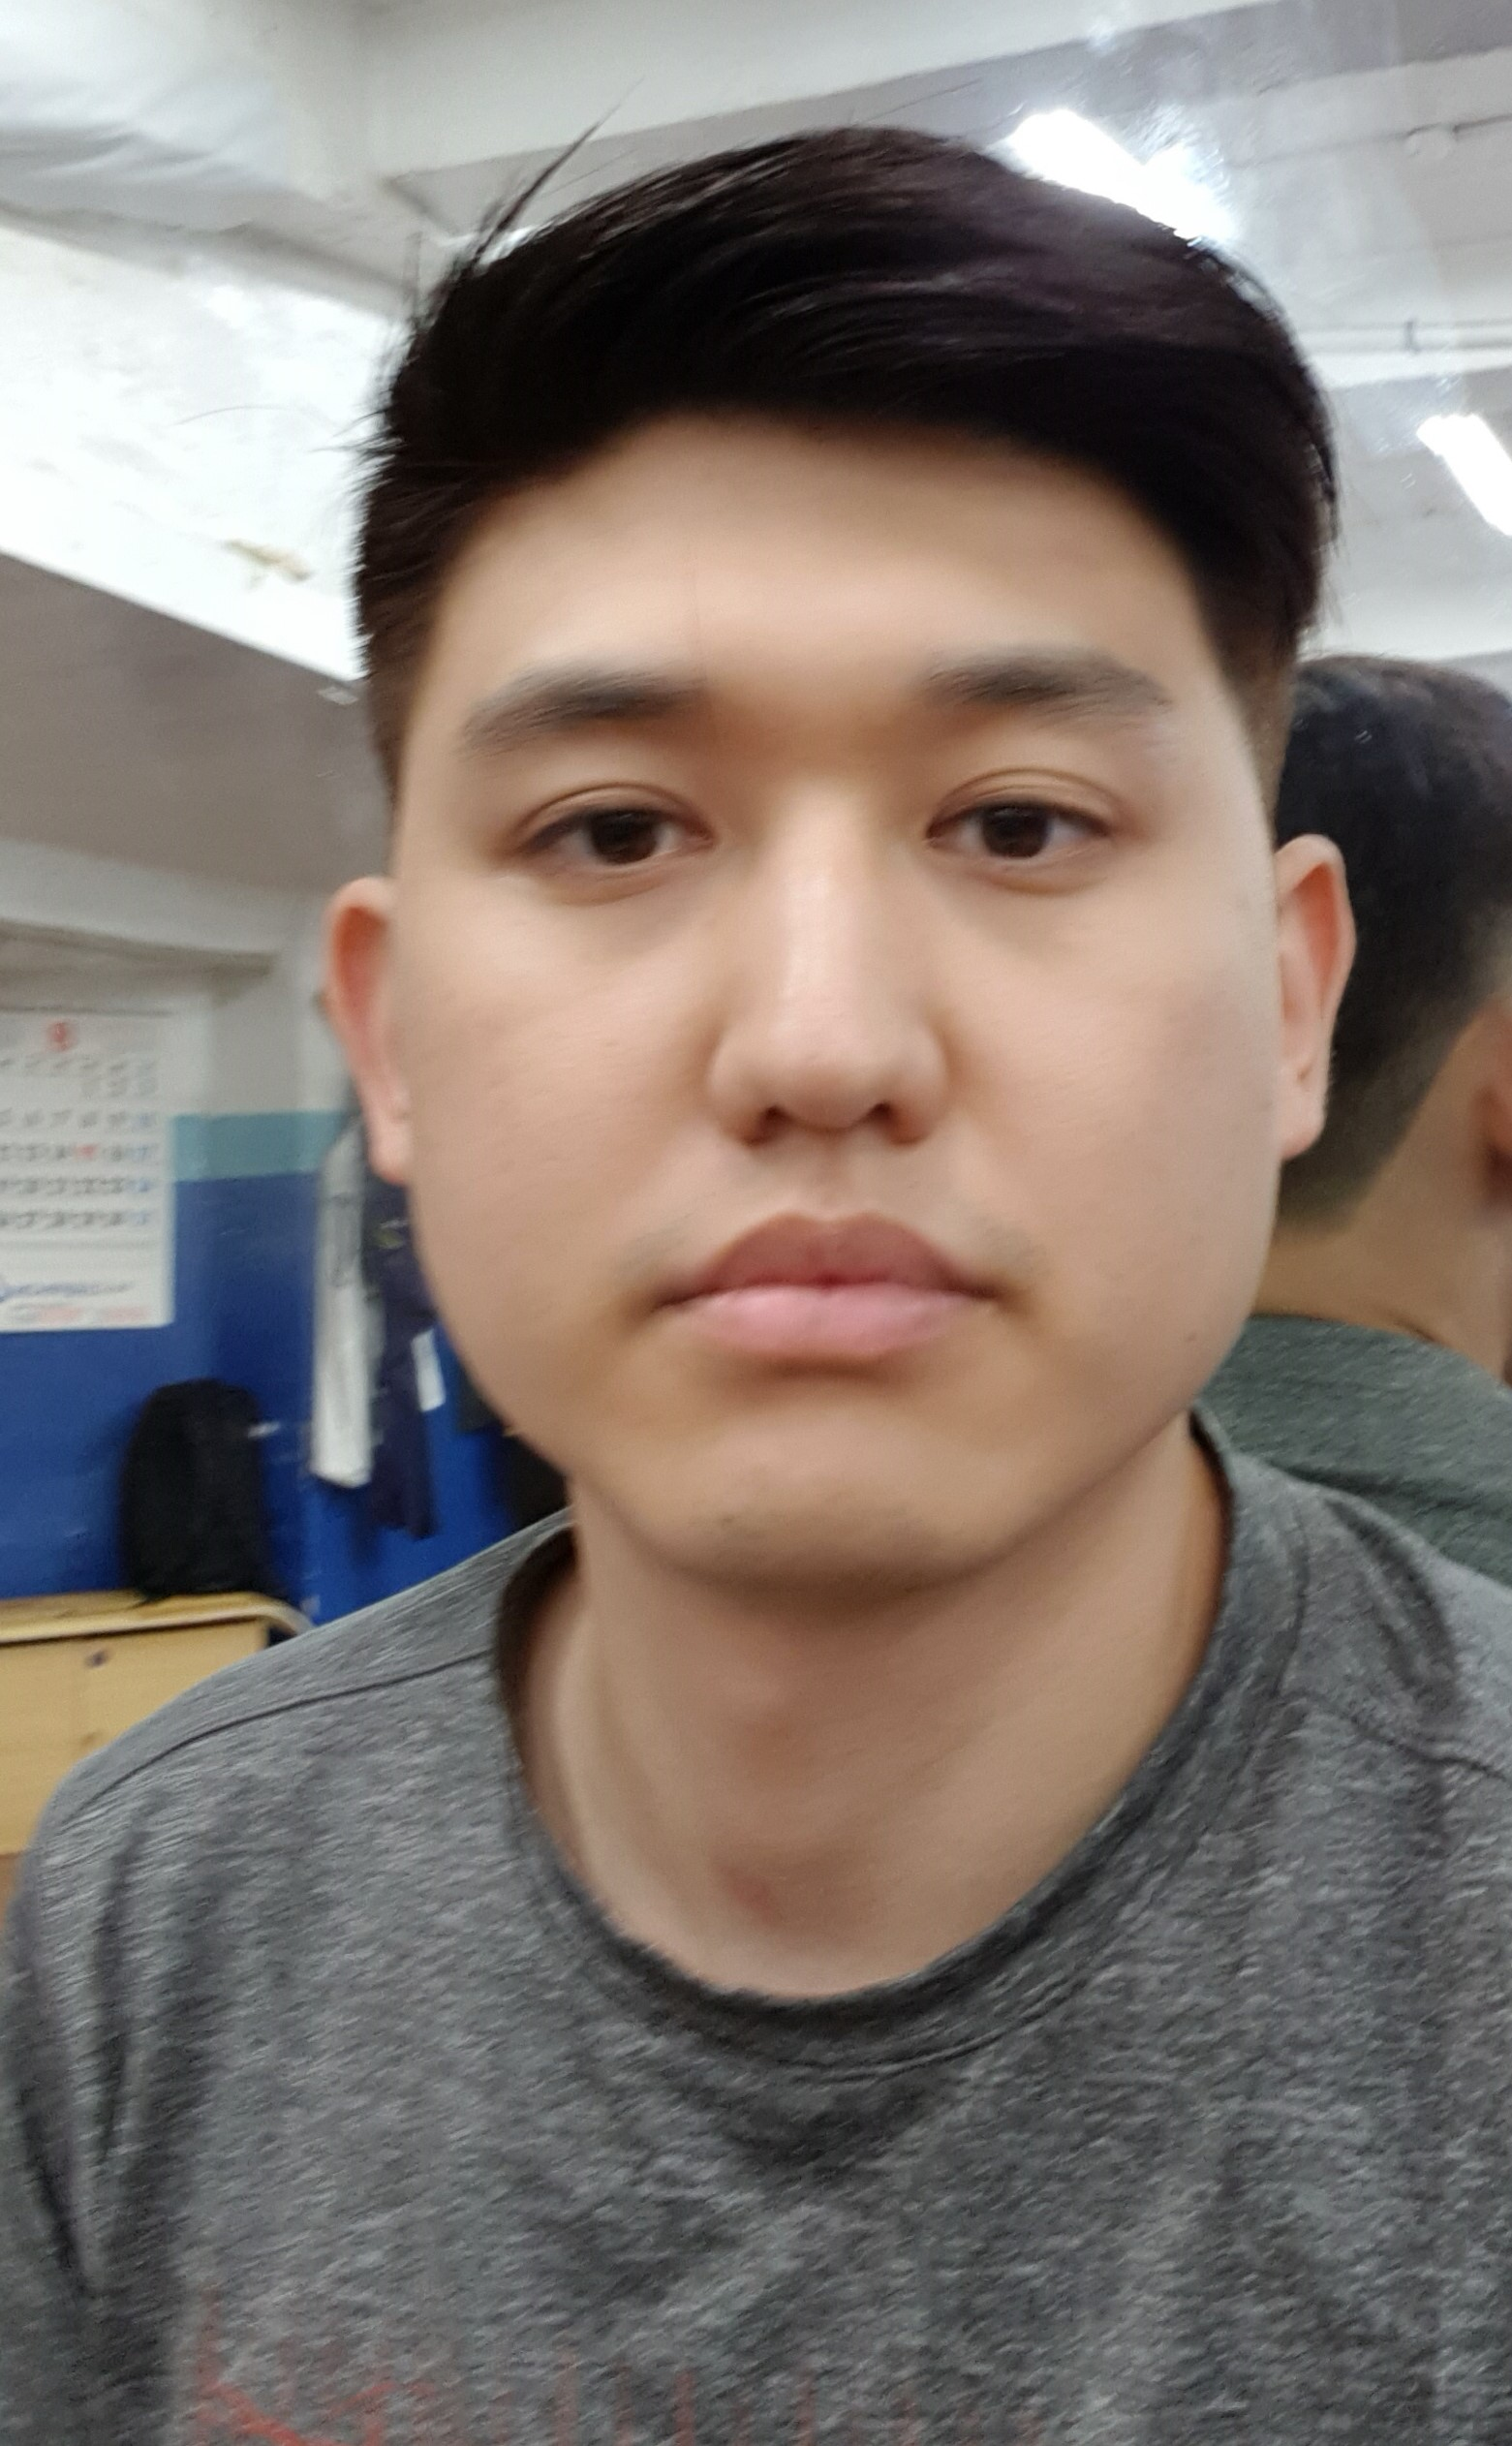nomask: (429, 520, 1228, 1444)
